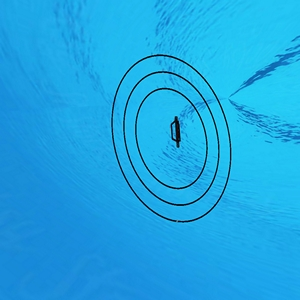circle: (107, 46, 234, 228)
submarine: (169, 116, 188, 147)
